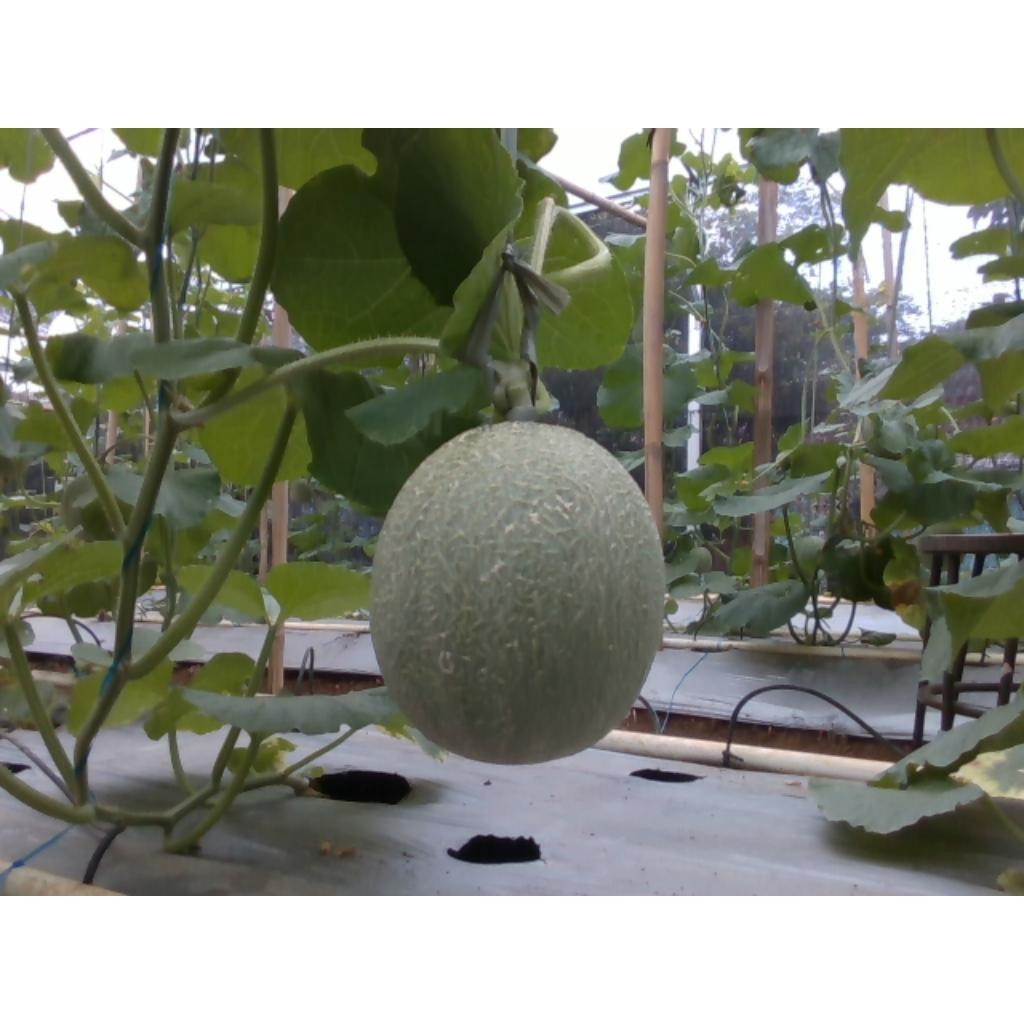melon: (371, 422, 666, 764)
